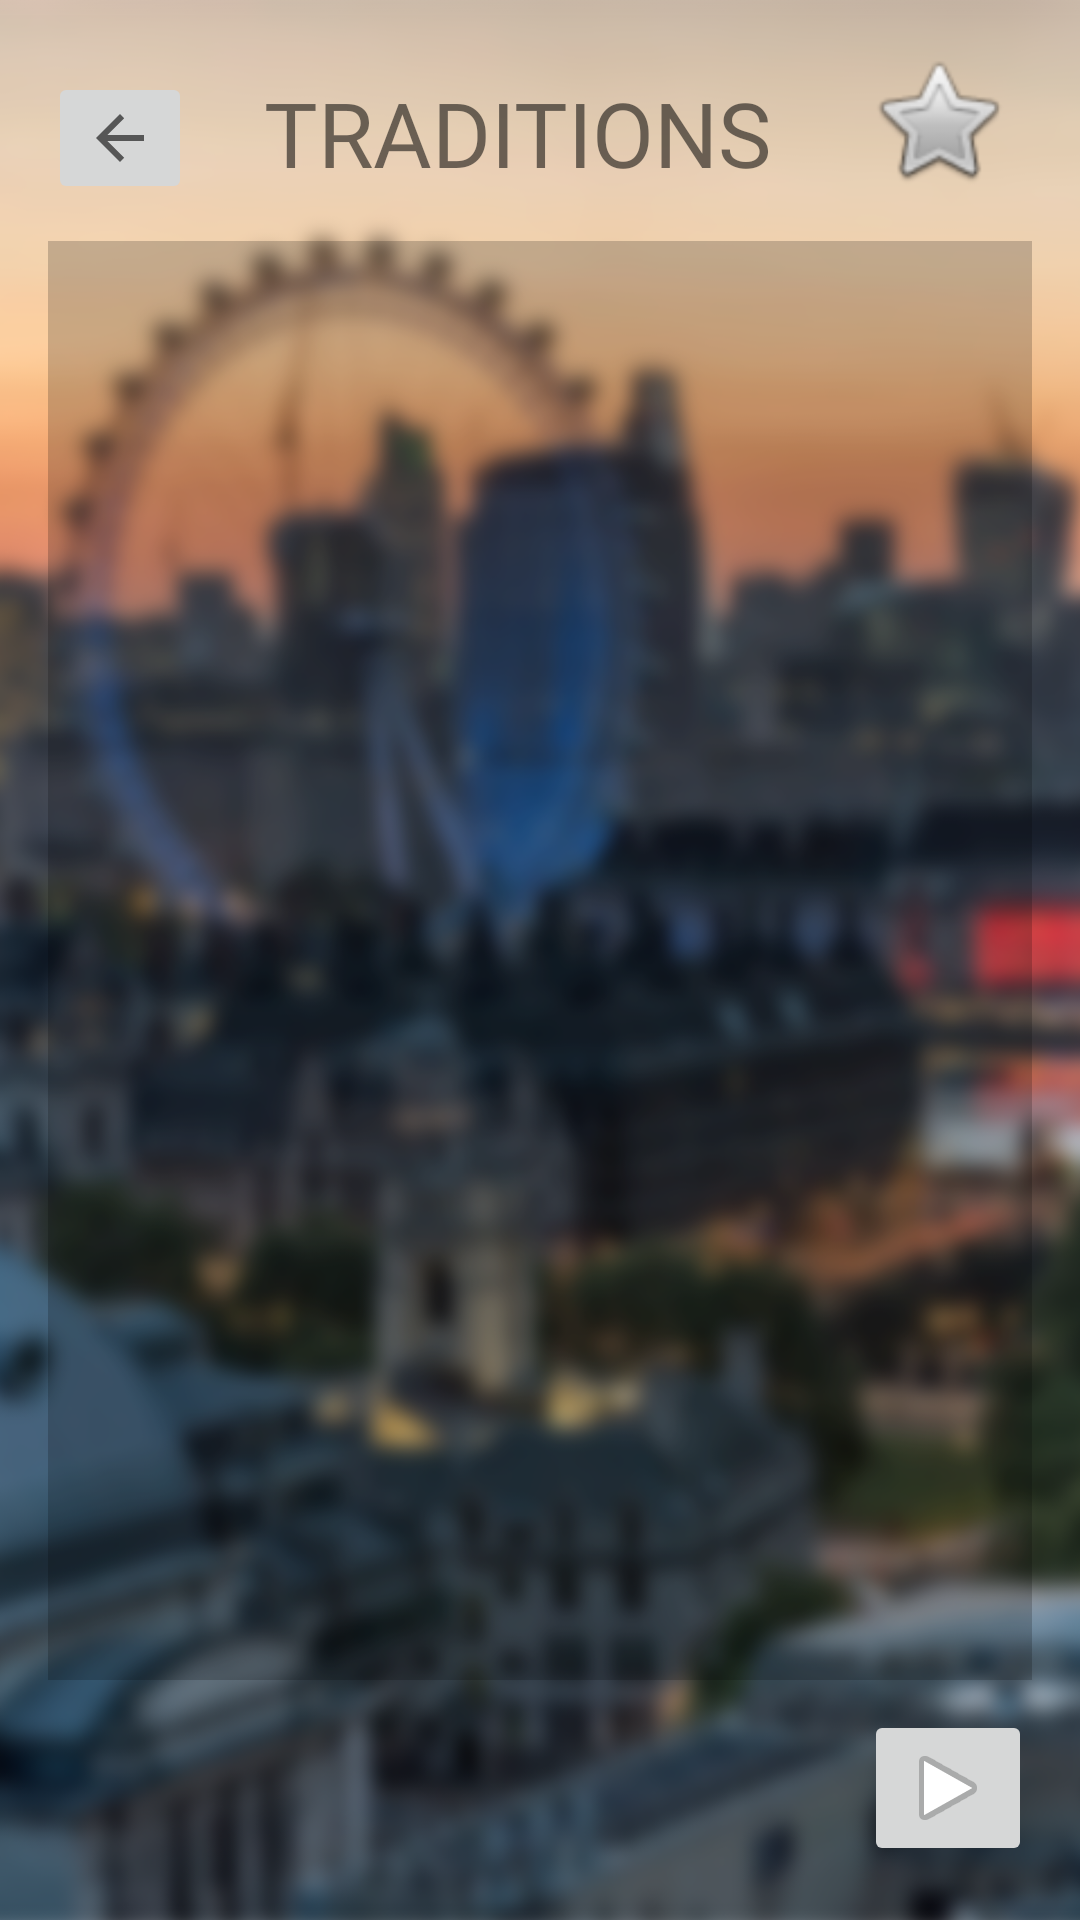

Point at icon controls on the screen. Image size 1080×1920, points as (x=x, y=y).
play: (x=943, y=1788)
star: (x=938, y=114)
